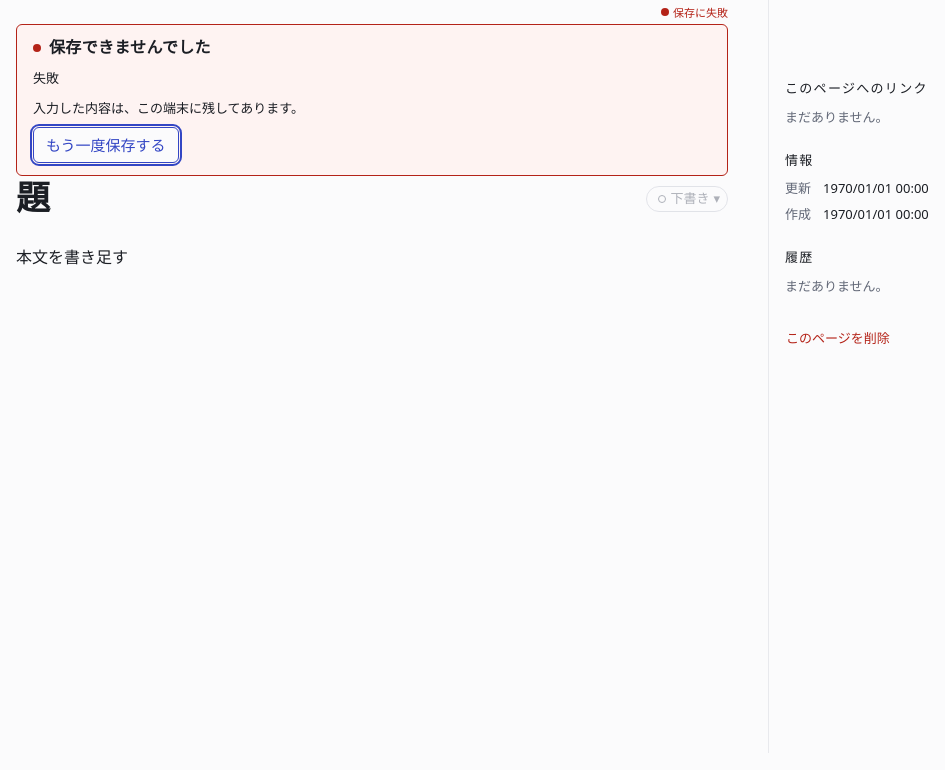
Test case: PageEditor と本文のエディタ › 再送のボタンへ focus を戻す印 › 再送で保存先のページが消えていたと分かったら、置き場から本文へ focus を移す
The width and height of the screenshot is (945, 770).
Click the button "もう一度保存する" at {"x": 106, "y": 145}, box [33,127,179,163]
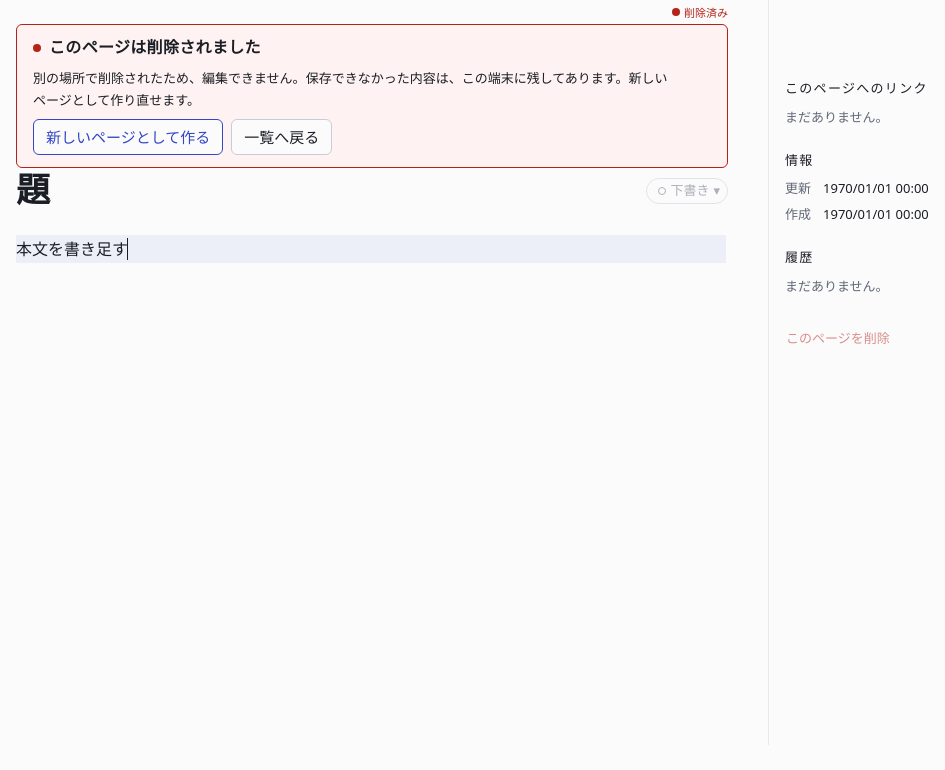
Result: the heading with class "notice-title" reads "このページは削除されました" at [49,39,261,56]
Result: the link "一覧へ戻る" is shown at [231,119,332,155]
